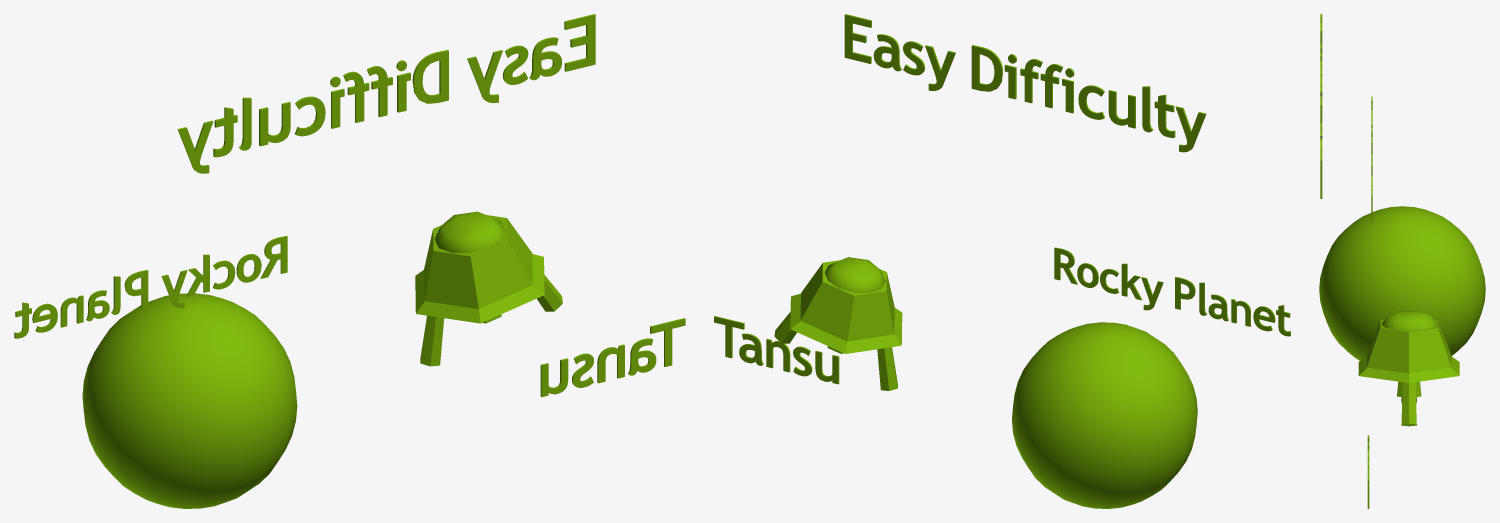
Rendered from AST_title_easyMode.fbx.
3 renders of one model, left to right at view 1: azimuth 30°, elevation 25°; view 2: azimuth 150°, elevation 25°; view 3: azimuth 270°, elevation 25°, orthographic. The views are drawn at different scales.
Parts seen in each view (by area): view 1: MSH_title_easyMode; view 2: MSH_title_easyMode; view 3: MSH_title_easyMode.
Part boxes in pixels (bbox=[...]): MSH_title_easyMode: bbox=[14, 14, 685, 508]; MSH_title_easyMode: bbox=[714, 14, 1290, 508]; MSH_title_easyMode: bbox=[1319, 14, 1485, 508].
Size of the model in its own units: 317 by 199 by 88.66.
